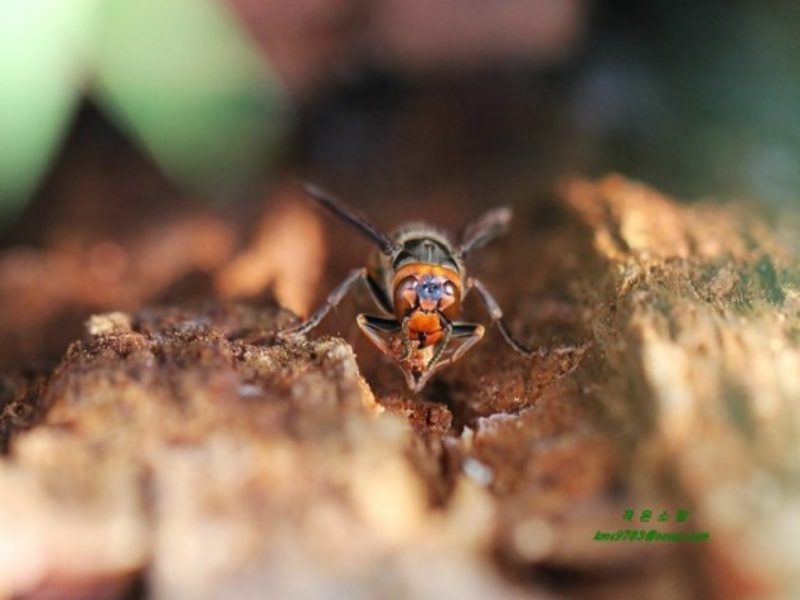asian_giant_hornet: (327, 206, 513, 394)
